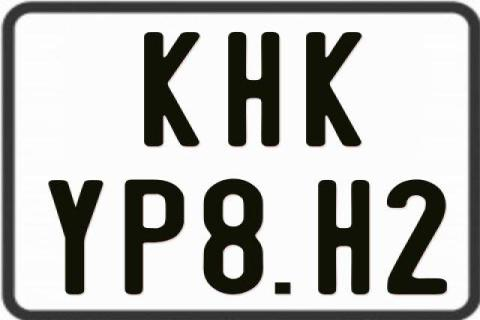0: (386, 177, 452, 297), (201, 179, 265, 297)
H: (227, 31, 280, 148), (317, 178, 369, 292)
K: (303, 29, 362, 149), (143, 31, 203, 148)
P: (123, 180, 184, 295)
Y: (48, 179, 103, 293)
